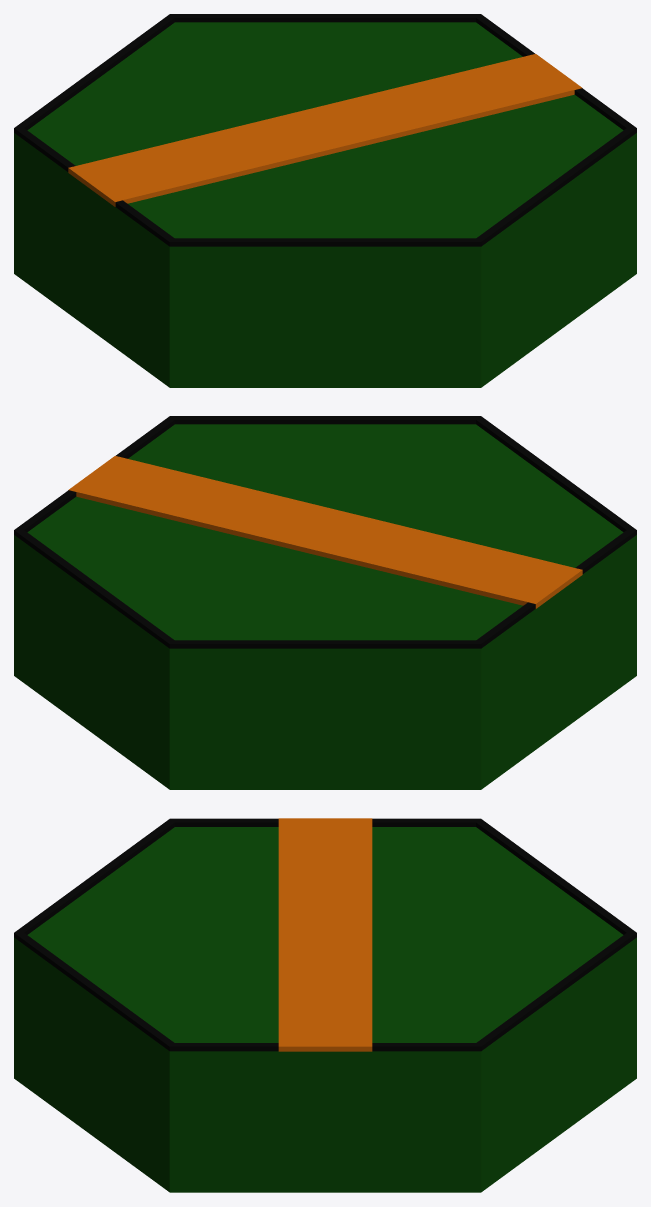
The model's file is hexagon_road.obj.
The picture shows the model from 3 angles, top to bottom: view 1: azimuth 30°, elevation 25°; view 2: azimuth 150°, elevation 25°; view 3: azimuth 270°, elevation 25°; orthographic projection.
Parts seen in each view (by area): view 1: Cylinder, Cube; view 2: Cylinder, Cube; view 3: Cylinder, Cube.
Boxes of the visible parts, box(x1,y1,x2,y2) form: Cylinder: box(14, 14, 636, 387); Cube: box(68, 54, 582, 206); Cylinder: box(14, 416, 636, 789); Cube: box(68, 456, 582, 608); Cylinder: box(14, 818, 636, 1192); Cube: box(278, 818, 372, 1051).
Size of the model in its own units: 1.73 by 0.517 by 2.
